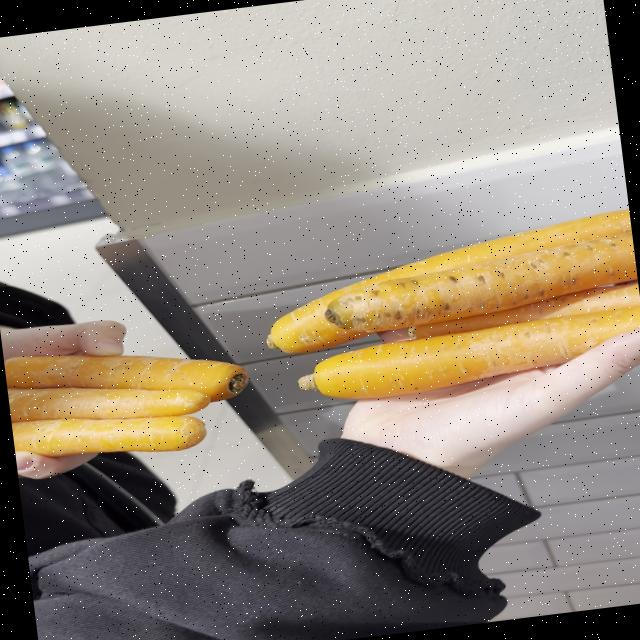carrot: (265, 210, 631, 354), (299, 307, 640, 399), (324, 233, 636, 332), (407, 283, 640, 339), (3, 354, 248, 401), (11, 416, 205, 457), (6, 387, 210, 422)
